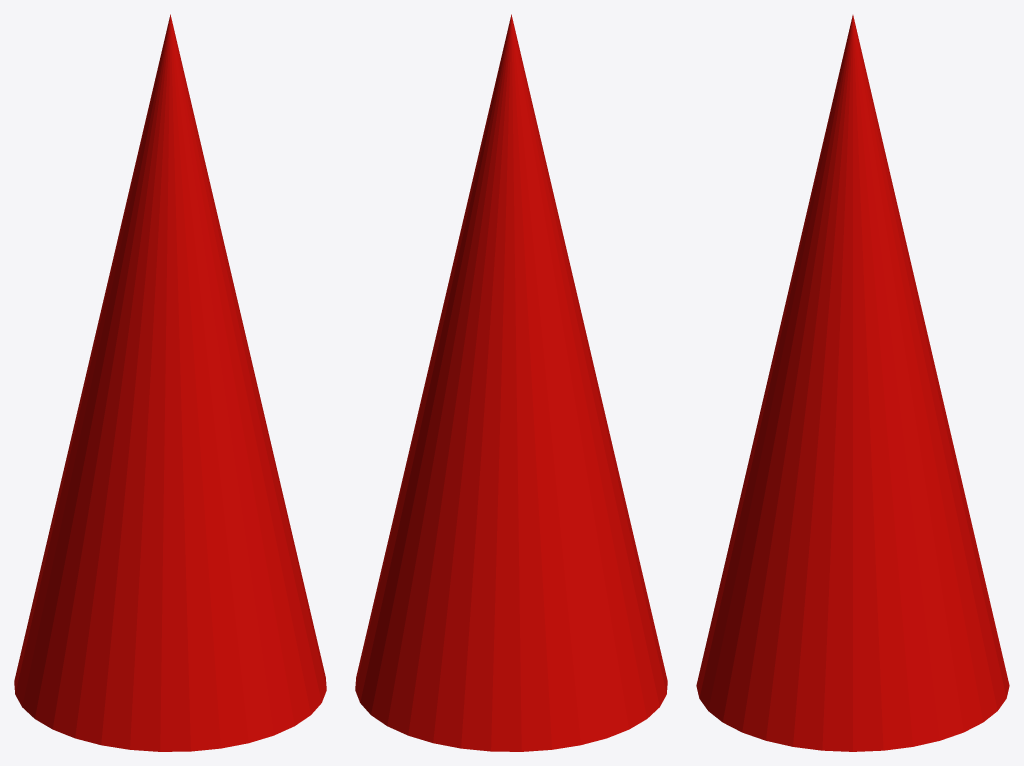
The model's file is bullet.fbx.
The picture shows the model from 3 angles, left to right: view 1: azimuth 30°, elevation 25°; view 2: azimuth 150°, elevation 25°; view 3: azimuth 270°, elevation 25°; orthographic projection.
Visible parts, largest first — view 1: 円錐; view 2: 円錐; view 3: 円錐.
Boxes of the visible parts, x1=… form: 円錐: x1=14, y1=14, x2=326, y2=751; 円錐: x1=355, y1=14, x2=667, y2=751; 円錐: x1=696, y1=15, x2=1009, y2=751.
Bounding box in the file's own units: 200 × 473 × 200.
